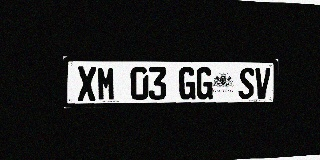0: (130, 67, 148, 100)
3: (149, 67, 166, 100)
G: (179, 67, 196, 100), (196, 67, 213, 99)
M: (97, 66, 116, 101)
S: (238, 68, 255, 99)
V: (254, 68, 271, 99)
X: (77, 66, 97, 101)
